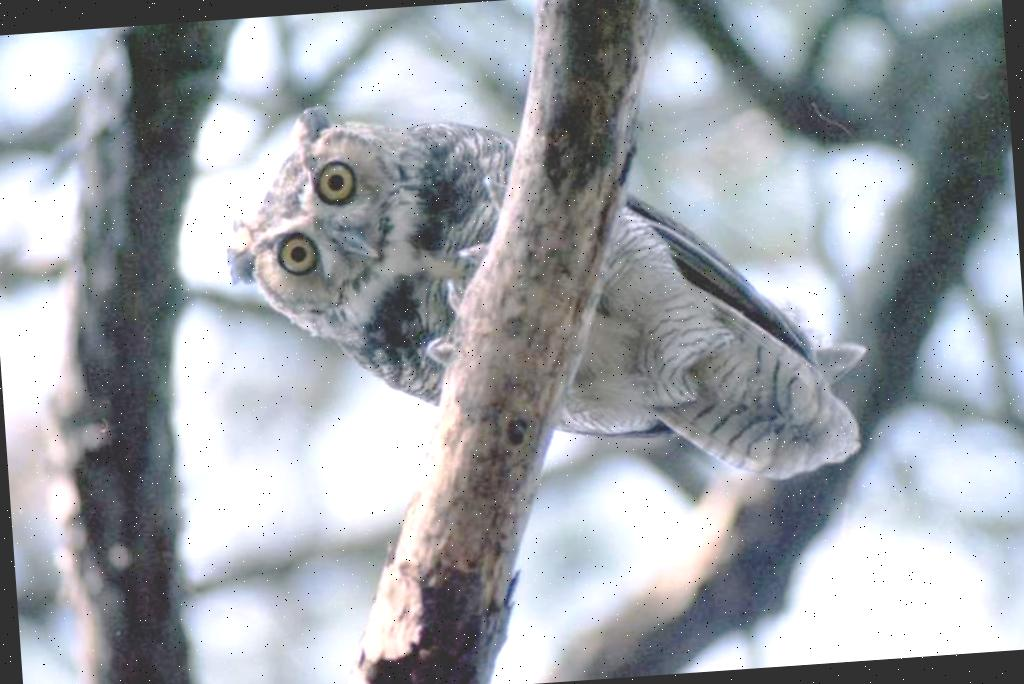Owl: (207, 65, 877, 502)
